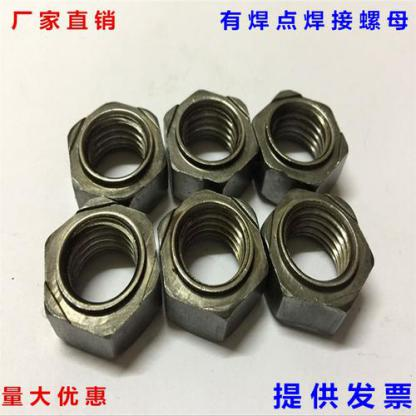FOD: (153, 187, 274, 345), (44, 195, 161, 357), (260, 190, 378, 342), (254, 89, 351, 207), (64, 98, 166, 209), (164, 88, 261, 202)
